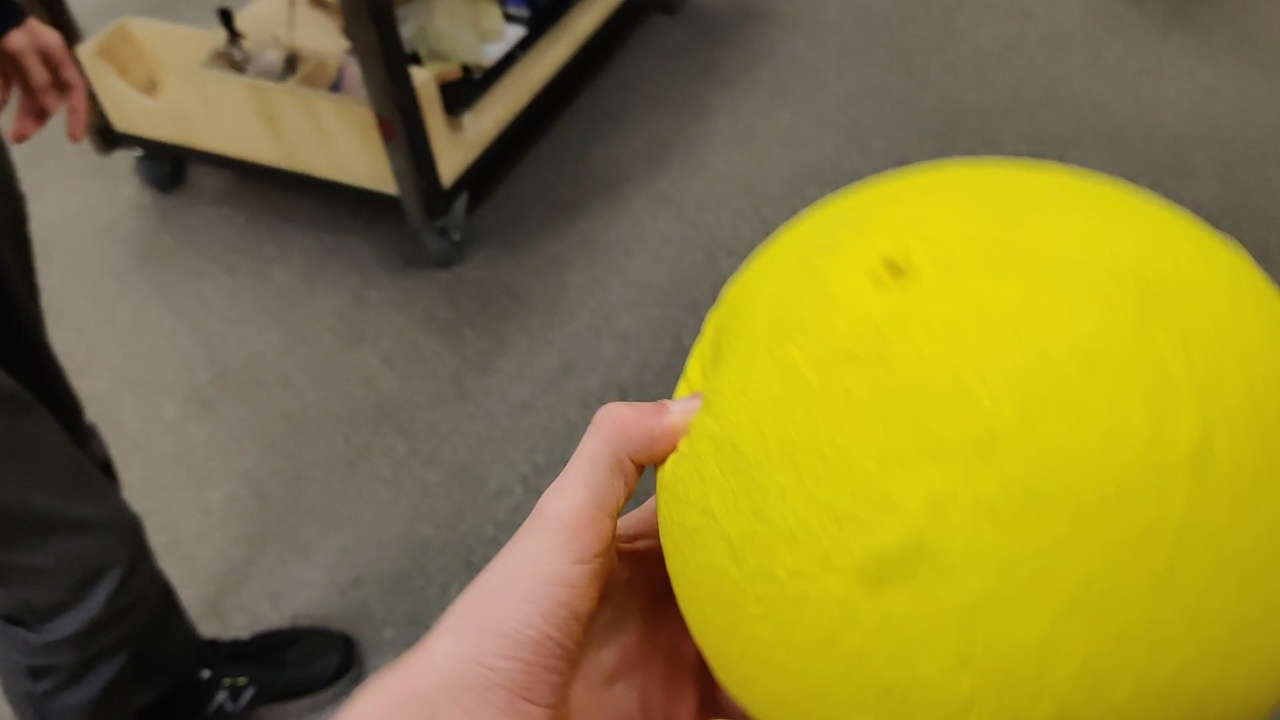Ball: (653, 155, 1279, 720)
